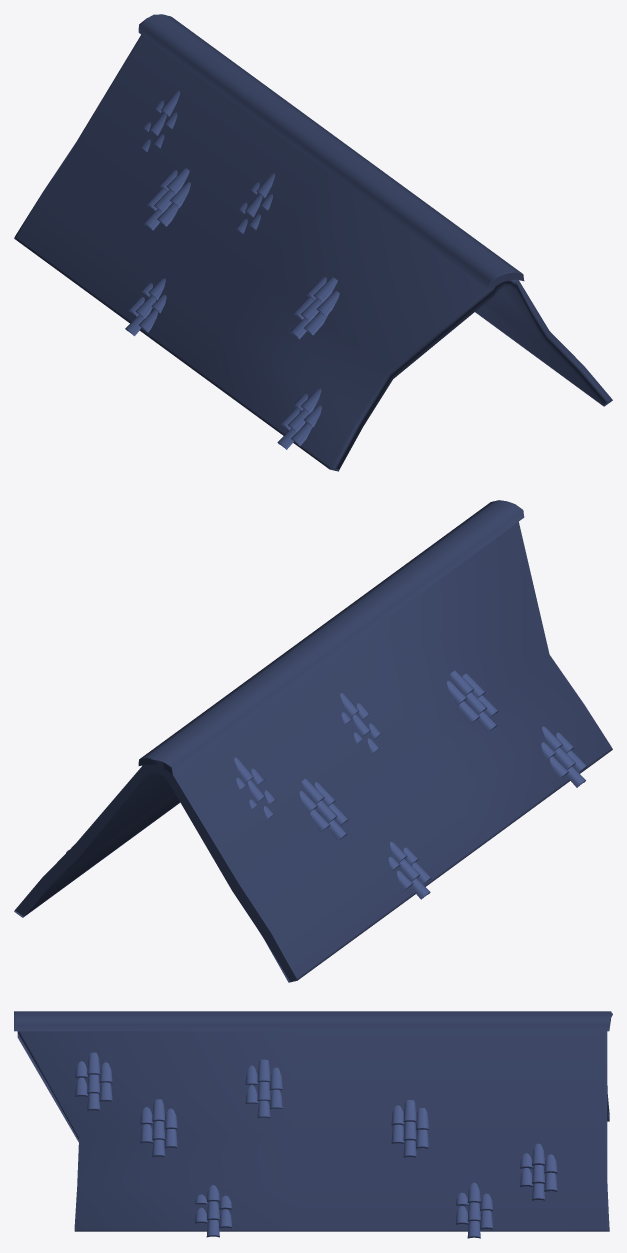
File: BlueRoofing3.fbx
3 renders of one model, top to bottom at view 1: azimuth 30°, elevation 25°; view 2: azimuth 150°, elevation 25°; view 3: azimuth 270°, elevation 25°, orthographic. The views are drawn at different scales.
Parts seen in each view (by area): view 1: Cube.092, Cube.091, Cube.090; view 2: Cube.092, Cube.091, Cube.090; view 3: Cube.092, Cube.091, Cube.090.
Boxes of the visible parts, x1,y1,x2,y2 form: Cube.092: (14,34,612,471); Cube.091: (138,14,524,289); Cube.090: (125,90,339,449); Cube.092: (14,522,612,982); Cube.091: (138,500,524,774); Cube.090: (66,670,587,899); Cube.092: (17,1031,609,1231); Cube.091: (14,1011,612,1031); Cube.090: (75,1052,557,1238).
Size of the model in its own units: 944 by 1901 by 571.
